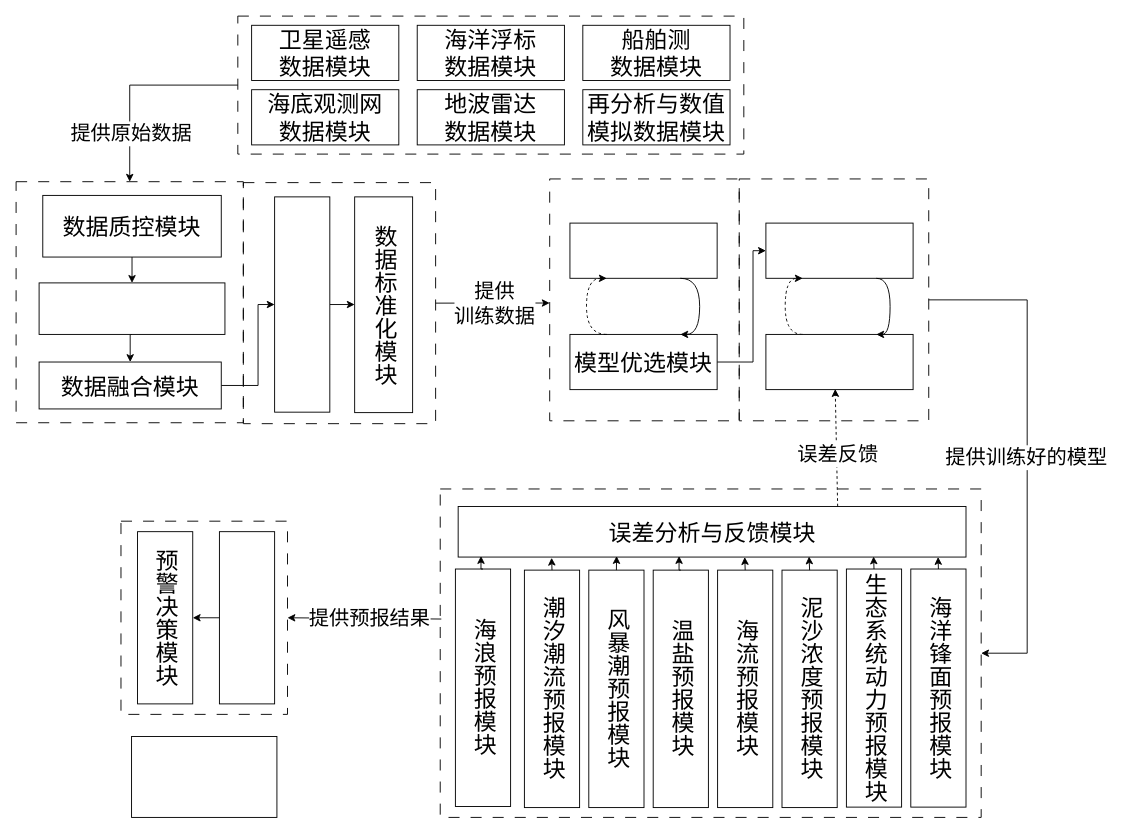
The diagram is 1122 pixels wide and 834 high, and some of its shapes have lost their labels. The shapes that lost their labels are listed below. From the top down, each one's box as (x1, y1, x2, y2) in pixels, then its label:
(569, 222, 717, 278): 参数优化模块
(765, 222, 913, 278): 集成学习模块
(38, 282, 225, 334): 数据清洗模块
(274, 196, 330, 412): 数据特征提取模块
(765, 334, 913, 390): 交叉验证与评估模块
(218, 531, 275, 704): 时空可视化模块
(131, 736, 277, 817): 日志管理模块
